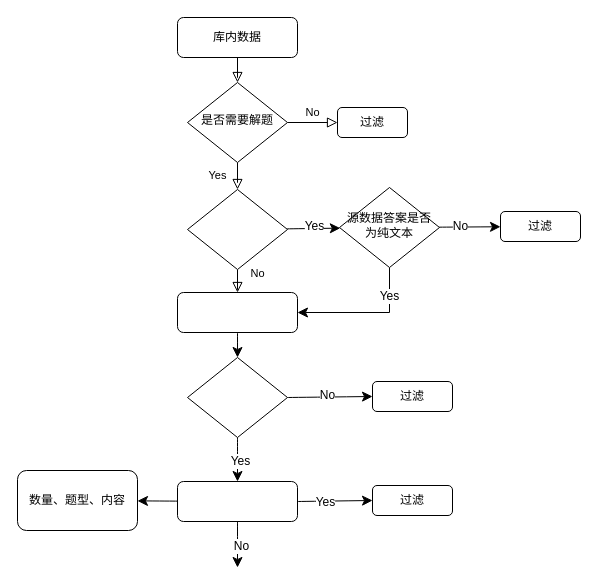
This 598x584 diagram has some shape labels left out. Here are the shapes that lost their labels. From the top down, the centre of each, then its label:
At point 237,229: "答案是否为空".
At point 237,312: "答案抽取".
At point 237,397: "答案是否有效".
At point 237,501: "答案是否非法".
